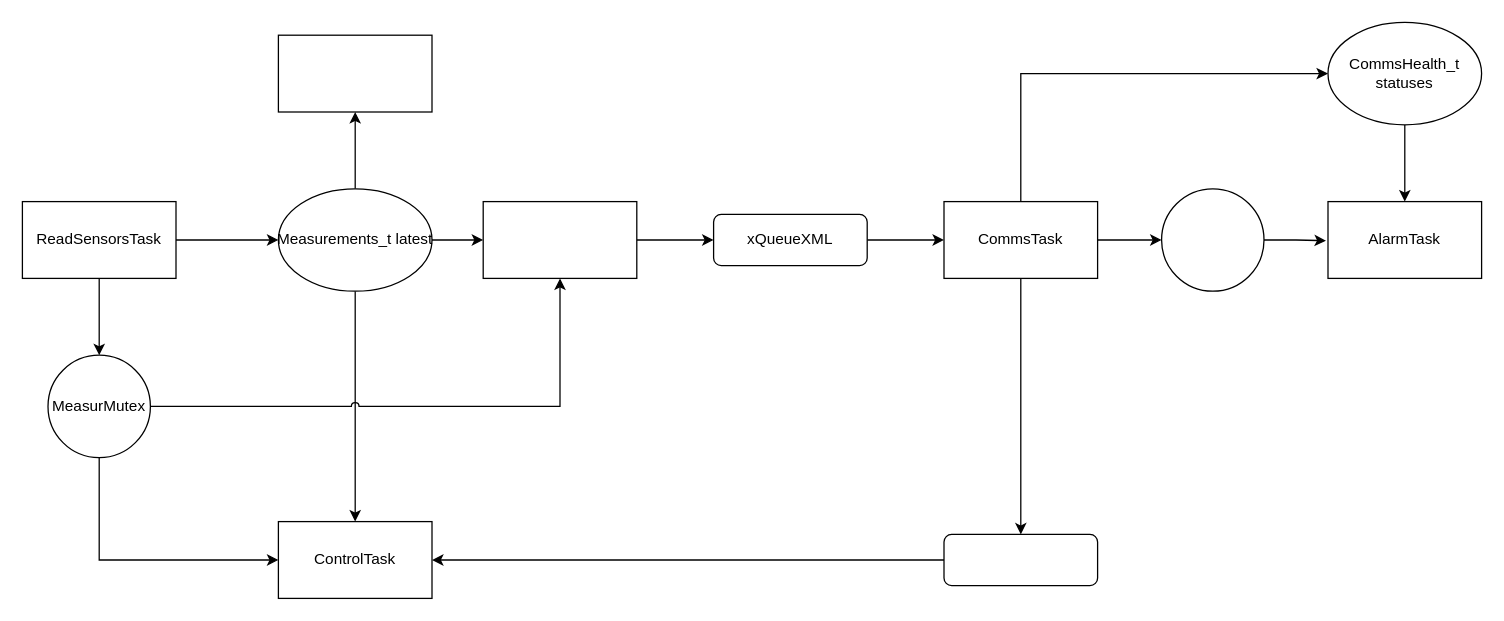
Image size: 1504x621. Some labels were removed from this diagram. Here are the shapes that lost their labels. From the top down, the centre of each, then its label:
[354,73]: DisplayWriteTask
[559,239]: XMLGenTask
[1212,239]: CommsMutex
[1020,559]: xQueueCommands
